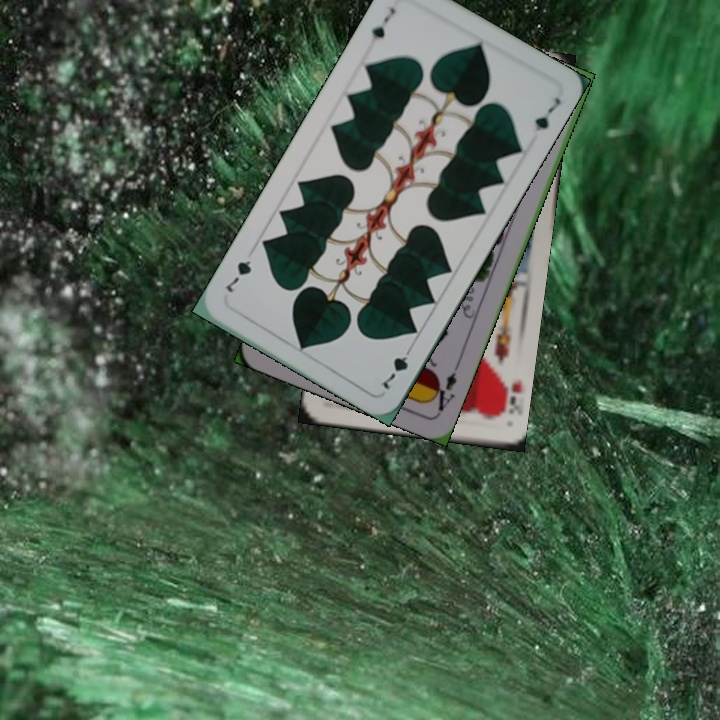EA: (426, 359, 462, 416)
G7: (378, 340, 416, 393), (364, 3, 399, 49)
HK: (493, 370, 521, 420)
